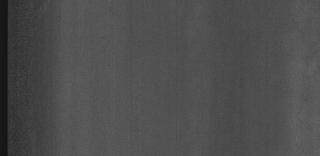silk spot: (17, 5, 57, 53)
